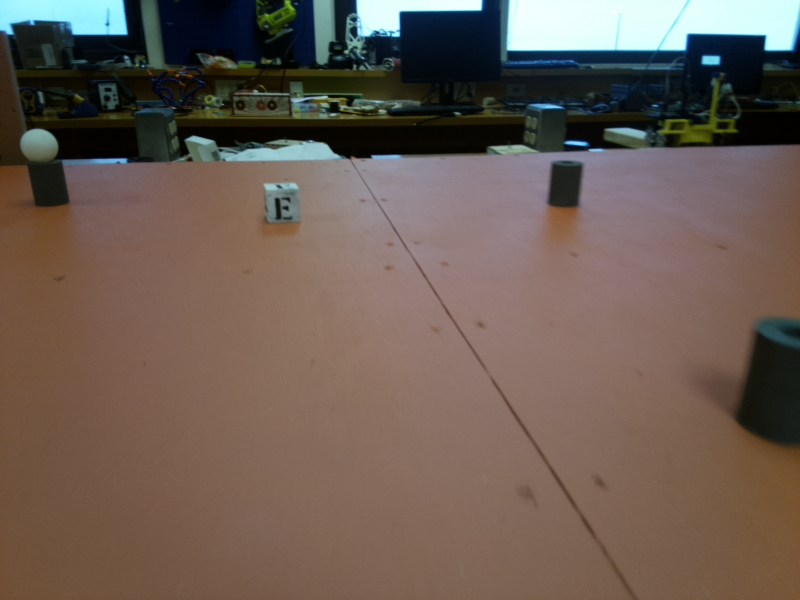blockE: (262, 178, 300, 227)
obstacle: (740, 313, 800, 434), (21, 124, 68, 206), (546, 155, 587, 213)
